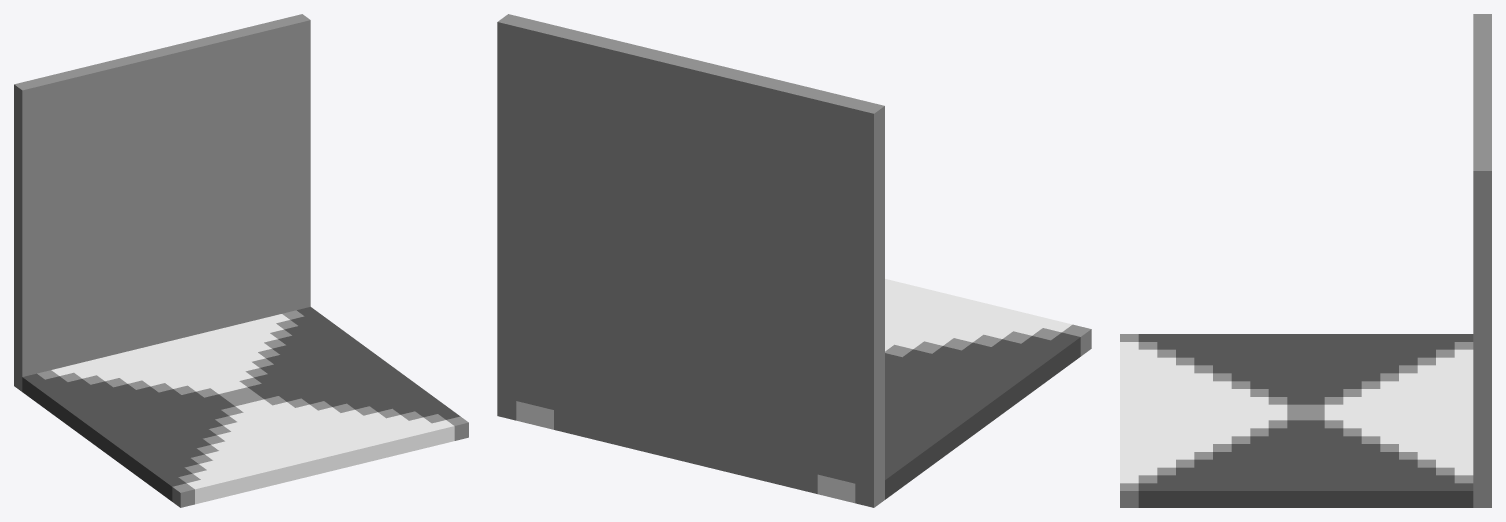
The model's file is Level_Maze_v2-9.obj.
3 renders of one model, left to right at view 1: azimuth 30°, elevation 25°; view 2: azimuth 150°, elevation 25°; view 3: azimuth 270°, elevation 25°, orthographic. The views are drawn at different scales.
Parts seen in each view (by area): view 1: Level_Maze_v2-9; view 2: Level_Maze_v2-9; view 3: Level_Maze_v2-9.
Part boxes in pixels (x1,y1,x2,y2): Level_Maze_v2-9: [14, 14, 468, 507]; Level_Maze_v2-9: [497, 14, 1091, 507]; Level_Maze_v2-9: [1120, 14, 1491, 507].
Size of the model in its own units: 20 by 20 by 20.
Materials: 1 (1 with a texture image).
